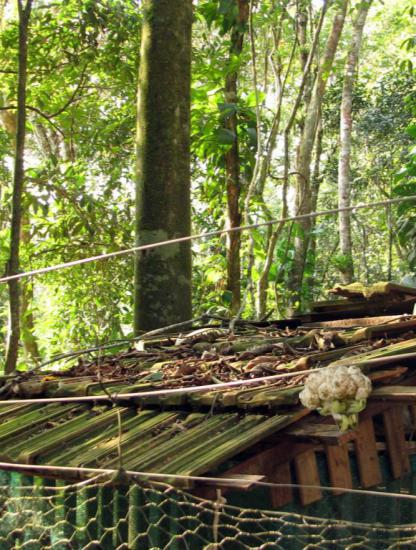Cauliflower: (299, 360, 374, 435)
